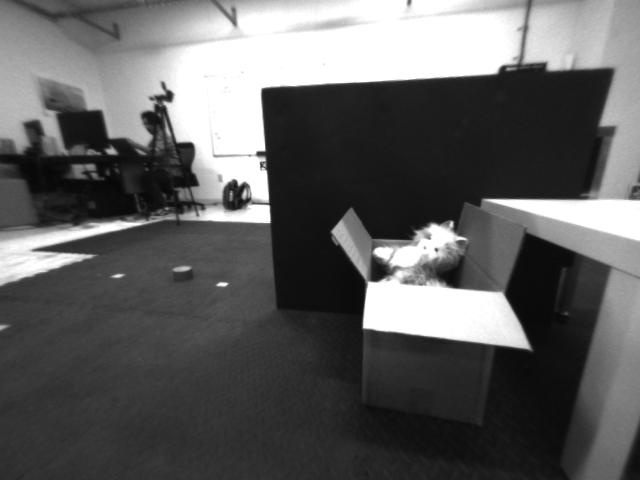dogtoy: (161, 255, 203, 293)
